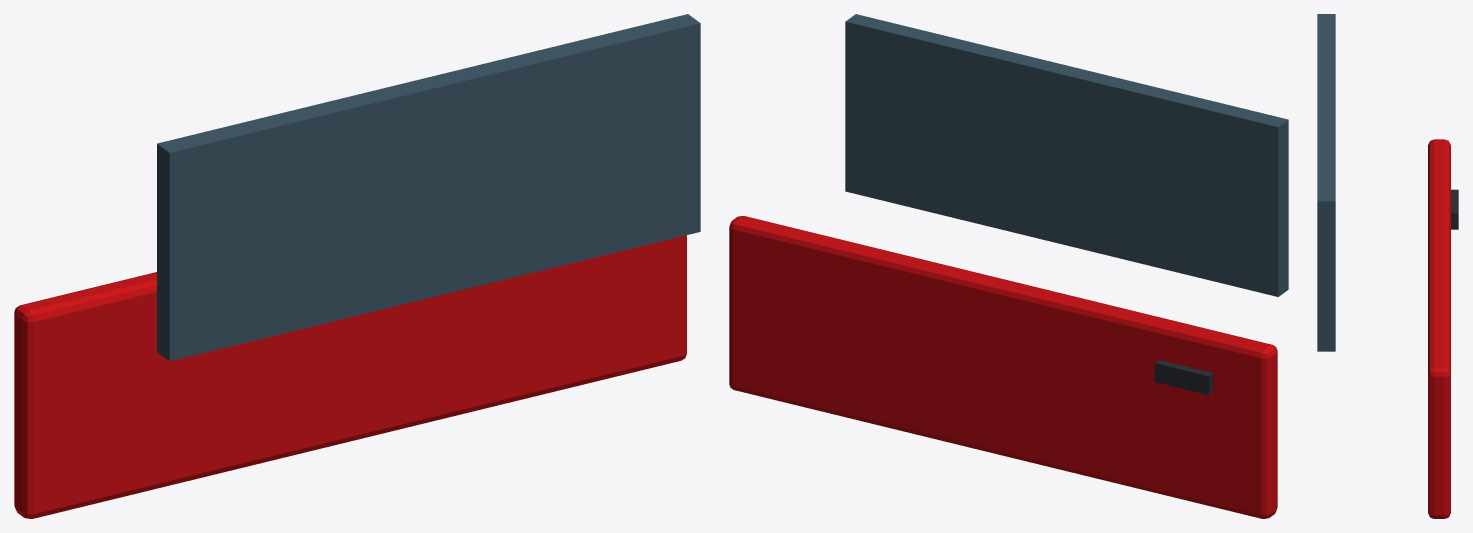
Rendered from door_l.obj.
The picture shows the model from 3 angles, left to right: view 1: azimuth 30°, elevation 25°; view 2: azimuth 150°, elevation 25°; view 3: azimuth 270°, elevation 25°; orthographic projection. The views are drawn at different scales.
Parts seen in each view (by area): view 1: Cube; view 2: Cube; view 3: Cube.
Part boxes in pixels (x1,y1,x2,y2): Cube: (14, 14, 700, 518); Cube: (729, 14, 1288, 518); Cube: (1317, 14, 1458, 518).
Size of the model in its own units: 1.2 by 0.71 by 0.307.
